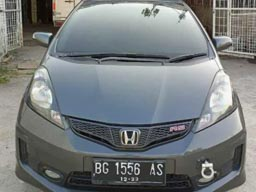plat: (93, 160, 164, 176)
